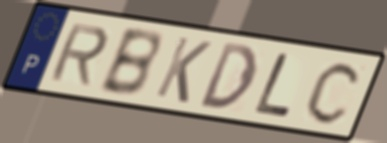B: (95, 27, 162, 99)
C: (303, 59, 366, 127)
D: (198, 40, 261, 112)
K: (152, 34, 215, 106)
L: (251, 50, 295, 119)
R: (45, 22, 112, 89)
